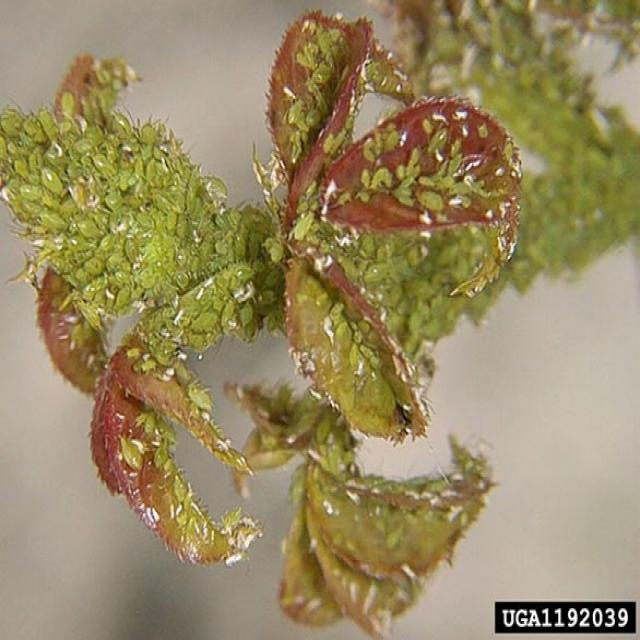Aphid-Grouped-: (2, 92, 215, 313)
